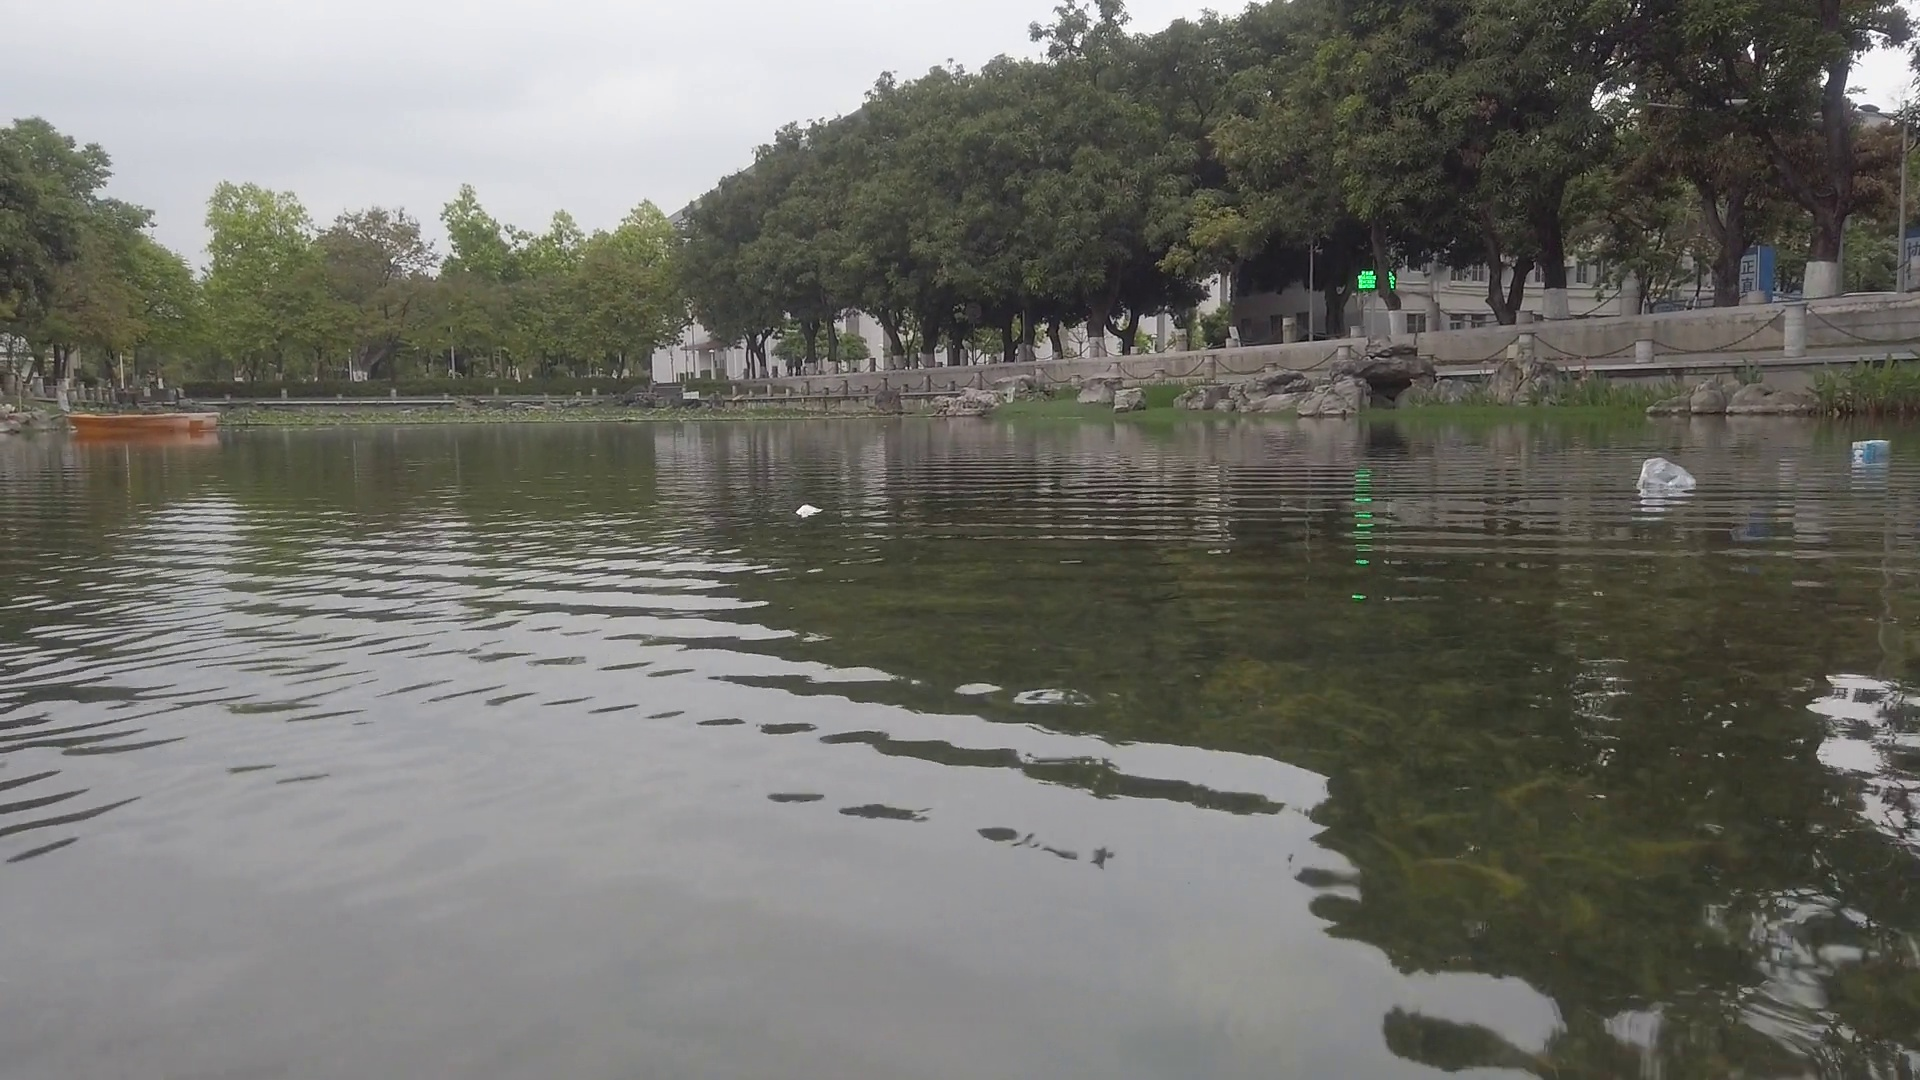carton: (1850, 439, 1894, 458)
paper: (796, 504, 825, 518)
plastic: (1644, 459, 1702, 493)
